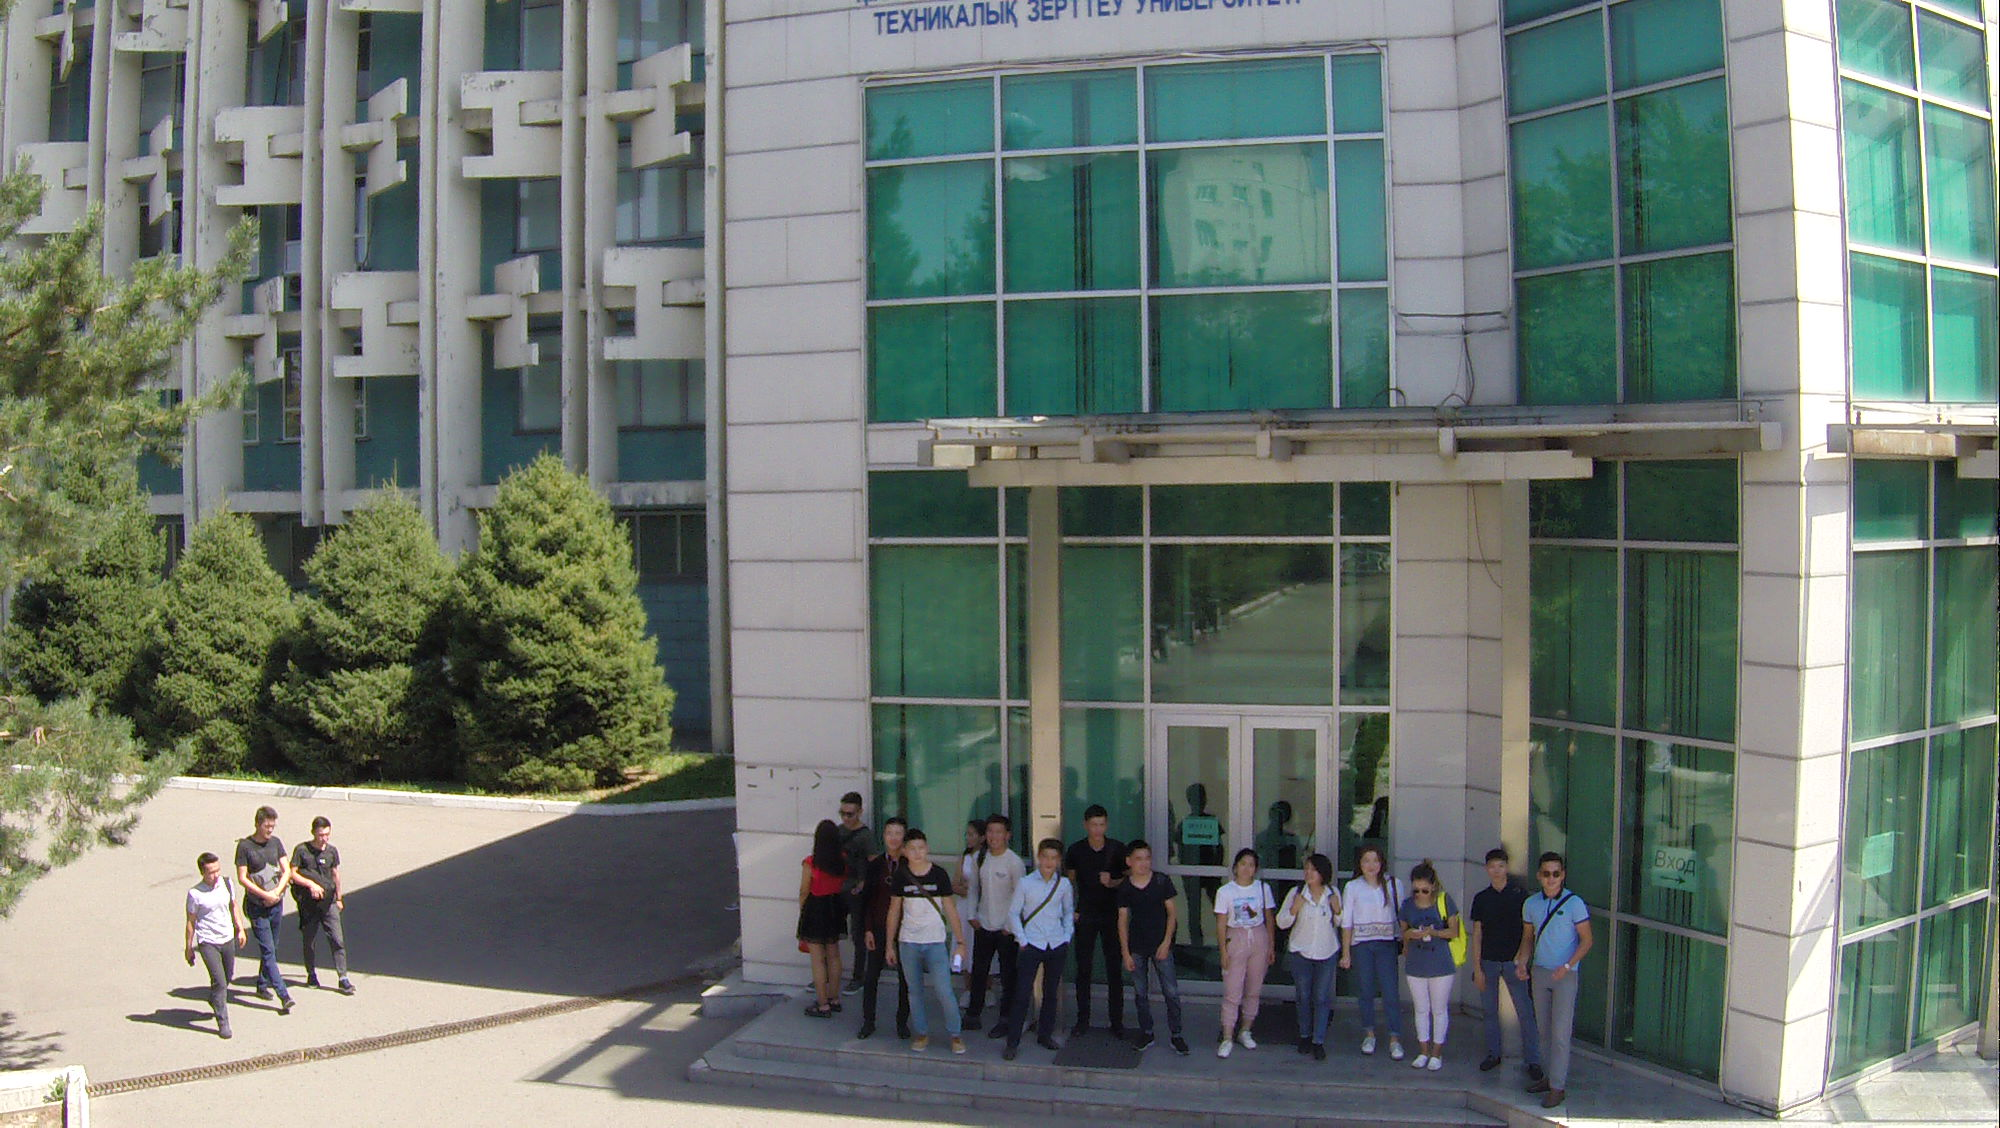person: (892, 832, 988, 1058), (1394, 855, 1474, 1081), (1521, 853, 1586, 1118), (1117, 836, 1194, 1060), (1066, 802, 1137, 1044), (1469, 842, 1538, 1083), (1009, 832, 1083, 1060), (1345, 839, 1415, 1063), (1211, 837, 1276, 1067), (1283, 858, 1353, 1068), (174, 849, 244, 1053), (237, 798, 295, 1024), (976, 799, 1029, 1032), (867, 823, 920, 1043), (792, 814, 847, 1027), (292, 817, 353, 1004), (830, 790, 881, 1002), (953, 814, 992, 1001)
